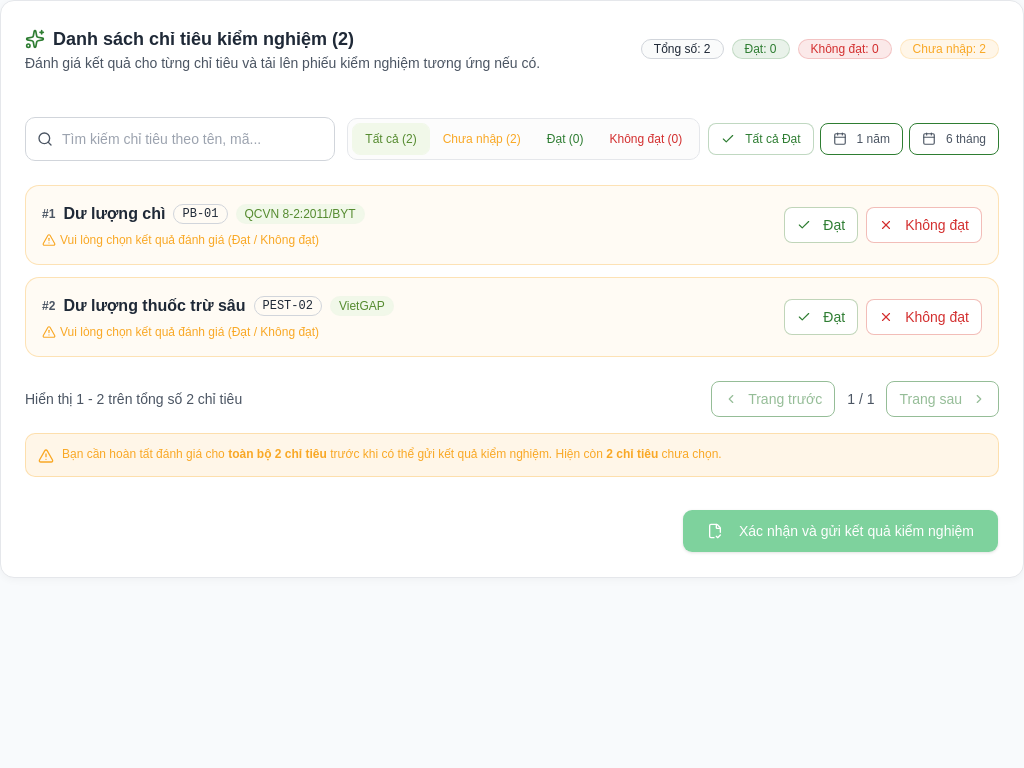
Test: InspectionResultEntryForm › allows setting individual criterion to passed or failed
The image size is (1024, 768).
// Click "Đạt" trên chỉ tiêu 1
Click the button "Đạt" in the row of "QCVN 8-2:2011/BYT".
click(821, 225)  # box [784,207,858,243]
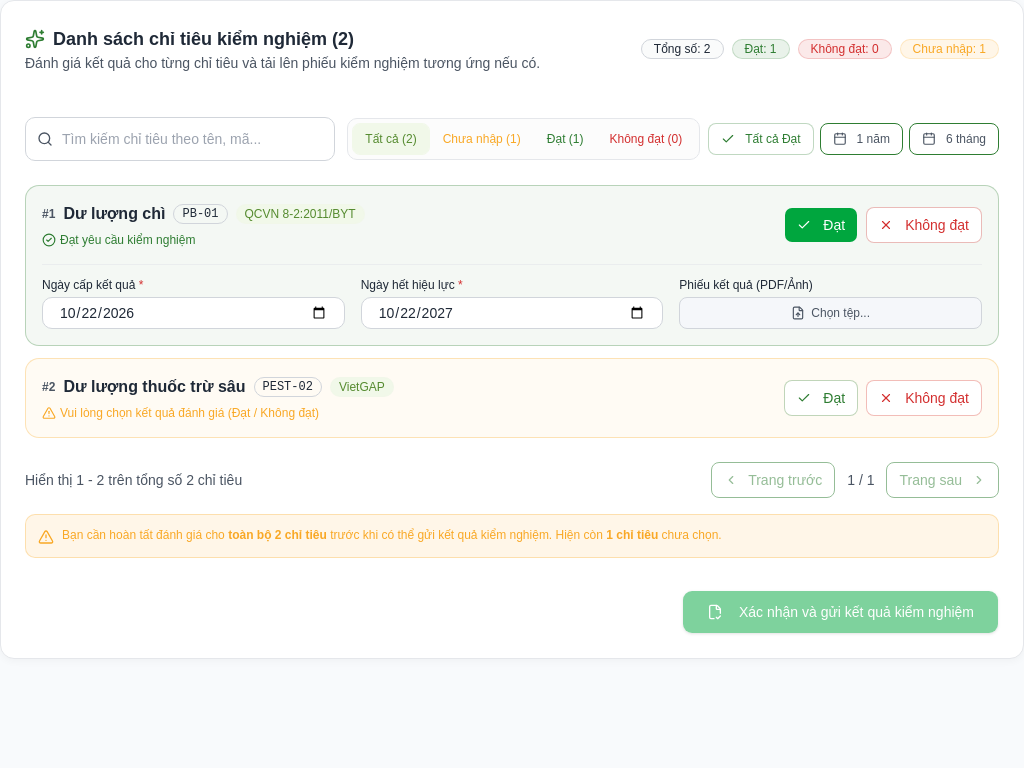
// Click "Không đạt" trên chỉ tiêu 2
Click the button "Không đạt" in the row of "VietGAP".
click(924, 398)  # box [866,380,982,416]
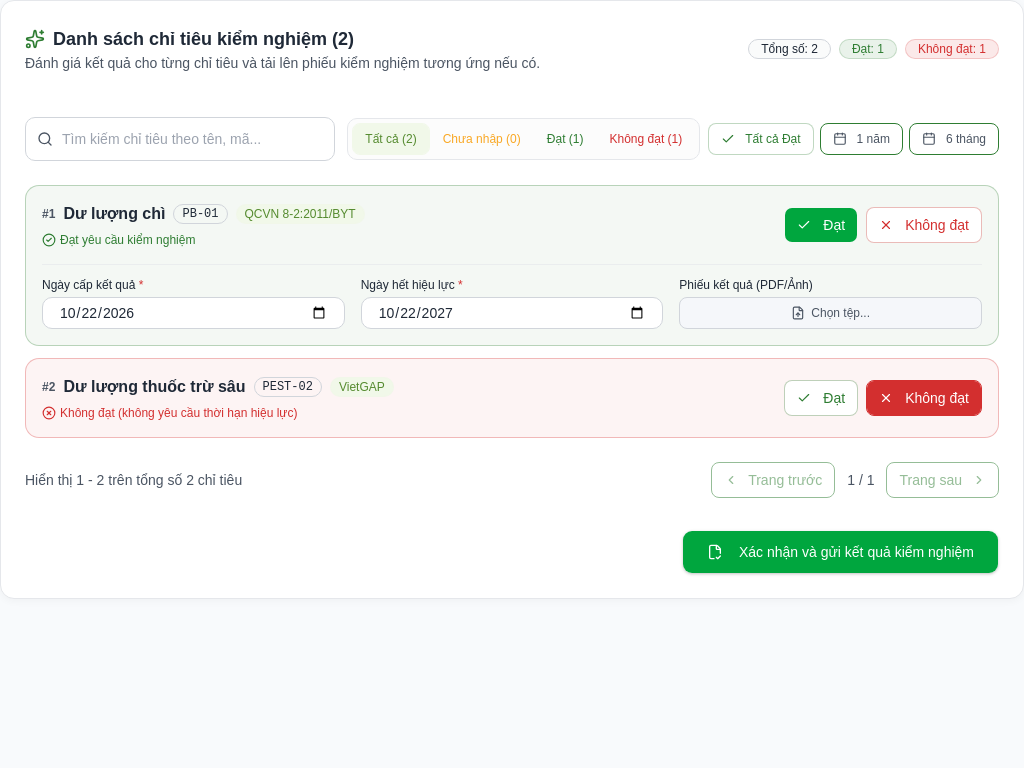
Expected: the icon "Đạt: 1" is shown, [839,39,897,59]
Expected: the text "Không đạt: 1" is shown, [905,39,999,59]
